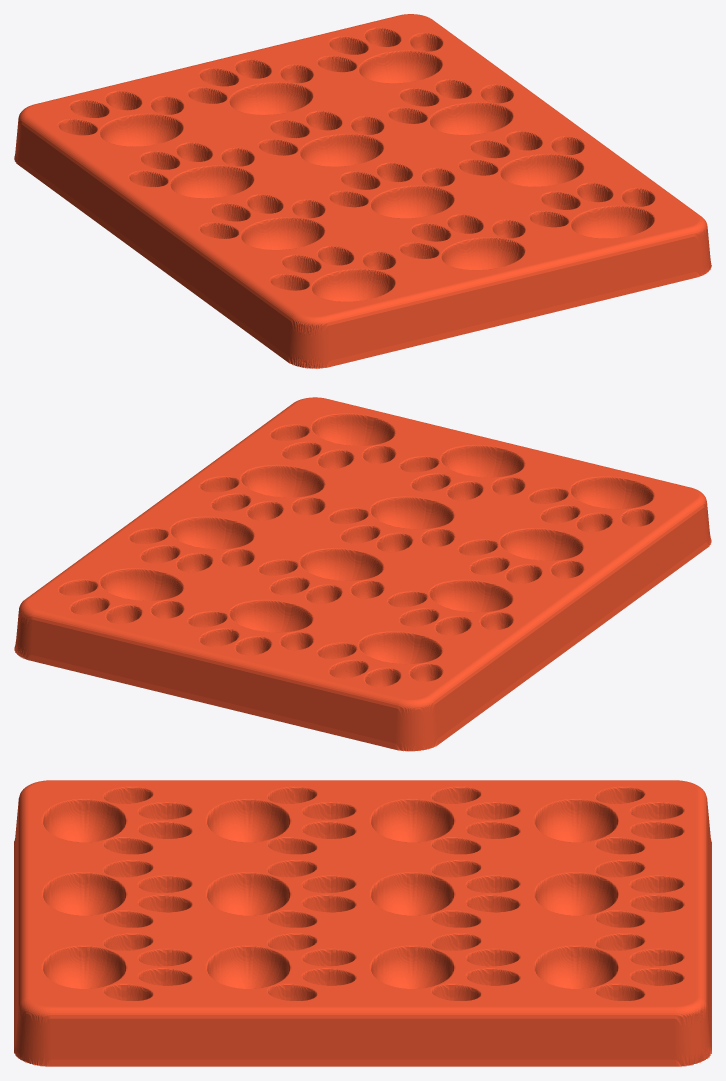
The model's file is mold.glb.
3 renders of one model, top to bottom at view 1: azimuth 30°, elevation 25°; view 2: azimuth 150°, elevation 25°; view 3: azimuth 270°, elevation 25°, orthographic. The views are drawn at different scales.
Visible parts, largest first — view 1: geometry_0; view 2: geometry_0; view 3: geometry_0.
Boxes of the visible parts, left/top/right/bottom form: geometry_0: left=14, top=14, right=711, bottom=368; geometry_0: left=14, top=397, right=711, bottom=751; geometry_0: left=14, top=780, right=711, bottom=1066.
Bounding box in the file's own units: 0.1374 × 0.0145 × 0.1703.
